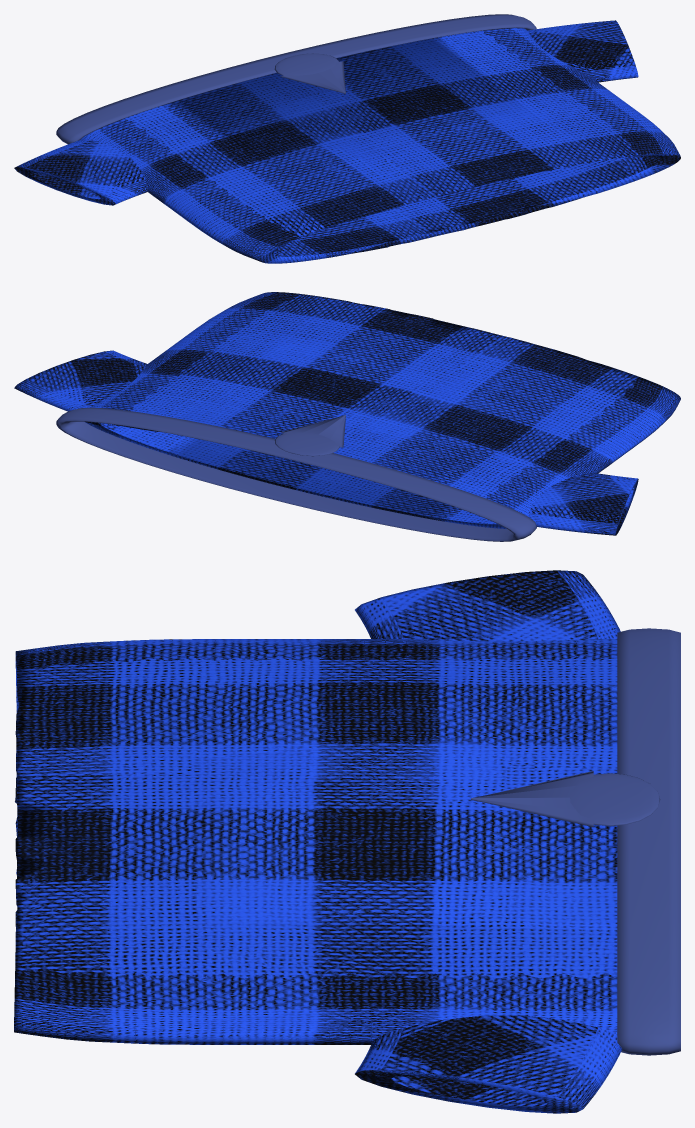
File: farmshirt2.fbx
3 renders of one model, top to bottom at view 1: azimuth 30°, elevation 25°; view 2: azimuth 150°, elevation 25°; view 3: azimuth 270°, elevation 25°, orthographic. The views are drawn at different scales.
Parts seen in each view (by area): view 1: farmshirt2; view 2: farmshirt2; view 3: farmshirt2.
Boxes of the visible parts, bbox=[...] form: farmshirt2: bbox=[14, 14, 680, 263]; farmshirt2: bbox=[14, 292, 680, 541]; farmshirt2: bbox=[14, 570, 680, 1113].
Bounding box in the file's own units: 1.14 × 0.0865 × 0.5991.
Materials: 2 (1 with a texture image).
